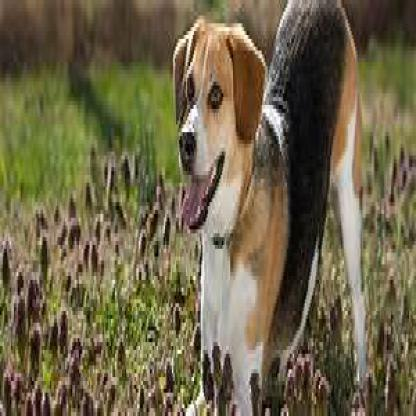dog: (172, 0, 372, 412)
